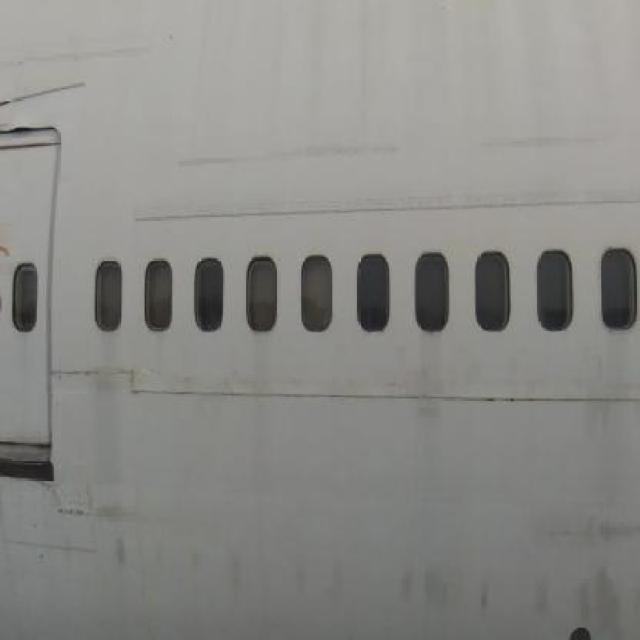Scartch: (389, 546, 640, 639), (172, 134, 406, 178), (467, 122, 611, 170), (94, 488, 169, 580), (284, 546, 358, 625), (527, 498, 640, 544), (182, 533, 248, 610)
